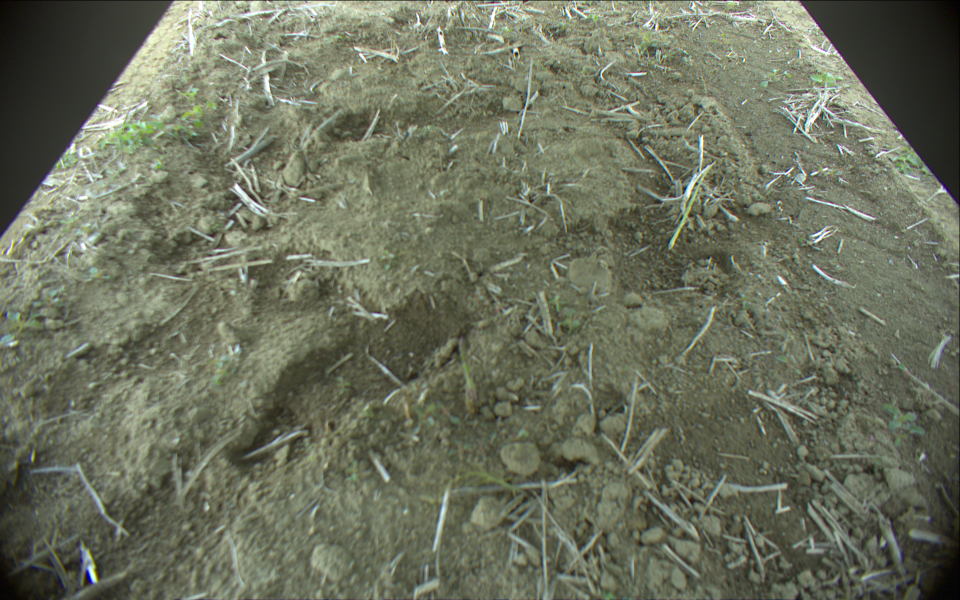aspa: (667, 164, 715, 249)
